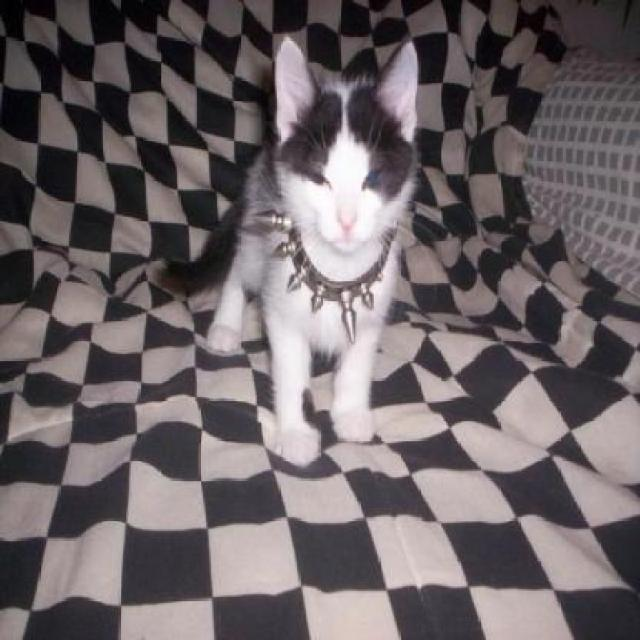cat: (205, 30, 433, 461)
